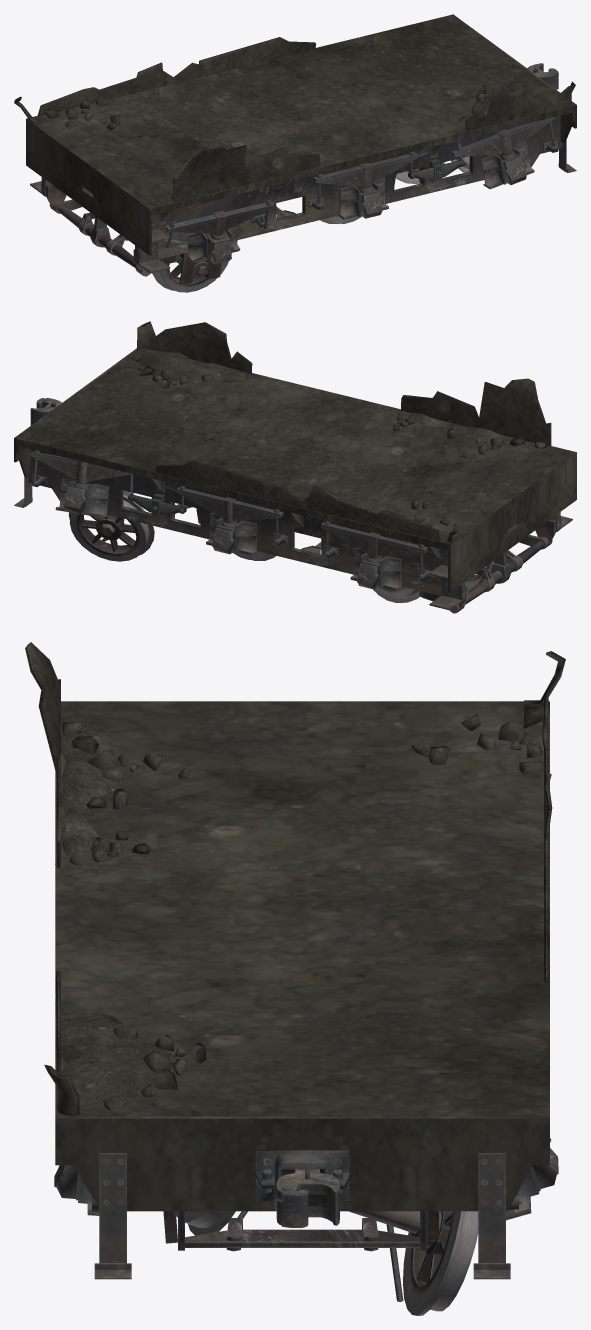
File: TrainHead3.fbx
3 renders of one model, top to bottom at view 1: azimuth 30°, elevation 25°; view 2: azimuth 150°, elevation 25°; view 3: azimuth 270°, elevation 25°, orthographic. The views are drawn at different scales.
Visible parts, largest first — view 1: 0000_SM_d_114_BrokenLocomotive_01c, 0001_SM_d_114_BrokenLocomotive_01c, 0003_SM_d_114_BrokenLocomotive_01c, 0005_SM_d_114_BrokenLocomotive_01c, 0004_SM_d_114_BrokenLocomotive_01c, 0002_SM_d_114_BrokenLocomotive_01c; view 2: 0000_SM_d_114_BrokenLocomotive_01c, 0001_SM_d_114_BrokenLocomotive_01c, 0003_SM_d_114_BrokenLocomotive_01c, 0002_SM_d_114_BrokenLocomotive_01c, 0004_SM_d_114_BrokenLocomotive_01c, 0005_SM_d_114_BrokenLocomotive_01c; view 3: 0000_SM_d_114_BrokenLocomotive_01c, 0002_SM_d_114_BrokenLocomotive_01c, 0001_SM_d_114_BrokenLocomotive_01c, 0004_SM_d_114_BrokenLocomotive_01c, 0005_SM_d_114_BrokenLocomotive_01c.
Part boxes in pixels (x1,y1,x2,y2): 0000_SM_d_114_BrokenLocomotive_01c: (14,14,576,255); 0001_SM_d_114_BrokenLocomotive_01c: (158,63,576,277); 0003_SM_d_114_BrokenLocomotive_01c: (30,115,562,273); 0005_SM_d_114_BrokenLocomotive_01c: (46,167,421,285); 0004_SM_d_114_BrokenLocomotive_01c: (152,156,469,292); 0002_SM_d_114_BrokenLocomotive_01c: (43,86,498,199); 0000_SM_d_114_BrokenLocomotive_01c: (14,321,576,592); 0001_SM_d_114_BrokenLocomotive_01c: (14,398,441,590); 0003_SM_d_114_BrokenLocomotive_01c: (28,449,572,610); 0002_SM_d_114_BrokenLocomotive_01c: (131,351,546,533); 0004_SM_d_114_BrokenLocomotive_01c: (68,494,493,602); 0005_SM_d_114_BrokenLocomotive_01c: (172,502,556,613); 0000_SM_d_114_BrokenLocomotive_01c: (25,642,565,1211); 0002_SM_d_114_BrokenLocomotive_01c: (61,706,543,1112); 0001_SM_d_114_BrokenLocomotive_01c: (54,864,558,1279); 0004_SM_d_114_BrokenLocomotive_01c: (163,1211,478,1315); 0005_SM_d_114_BrokenLocomotive_01c: (178,1211,427,1251).
Bounding box in the file's own units: 8.65 × 3.15 × 4.25.
